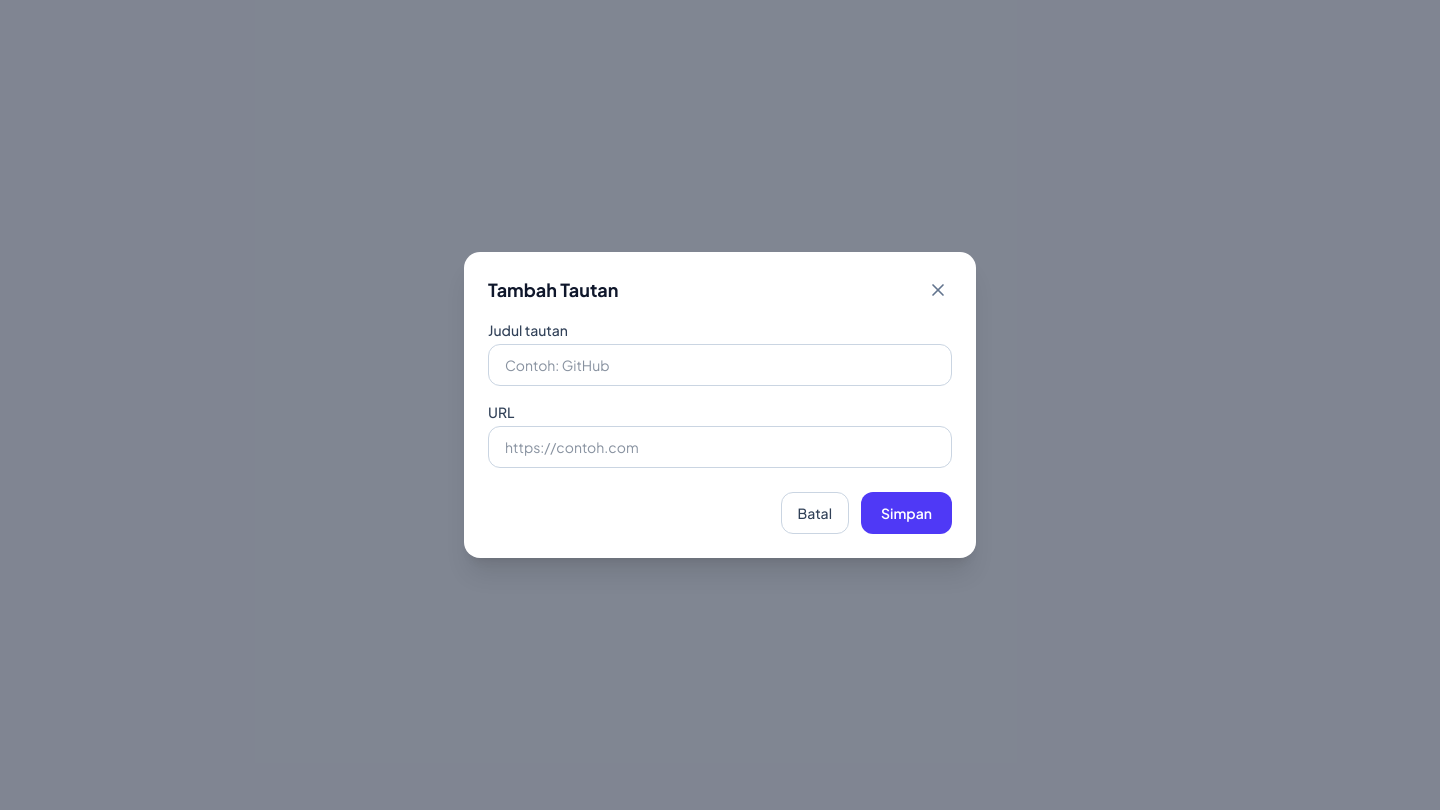
Test: ItemModal › error bila judul atau URL kosong
Click the button "Simpan": (906, 513) [861,492,952,534]
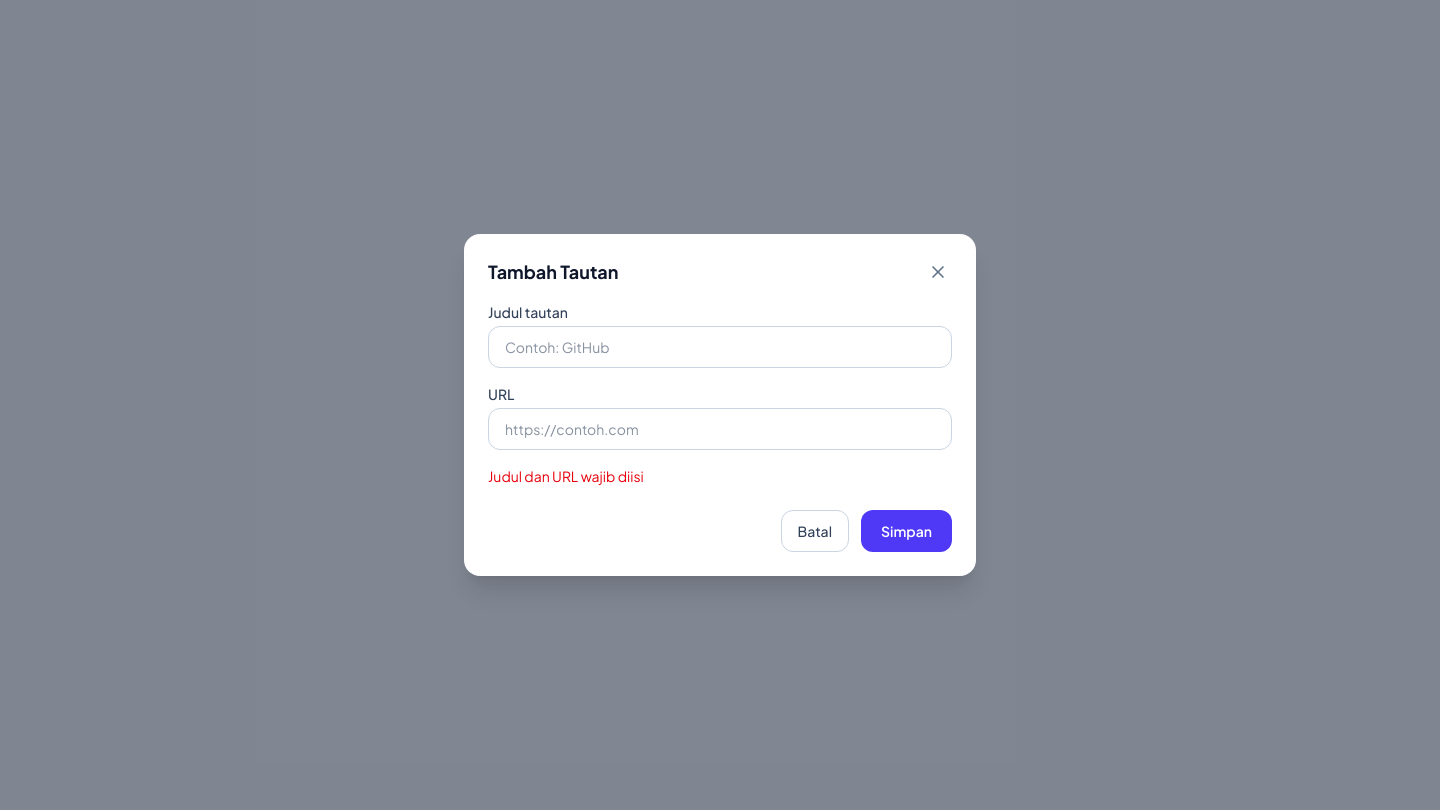
Expected: the message reads "Judul dan URL wajib diisi", [488,467,644,485]
